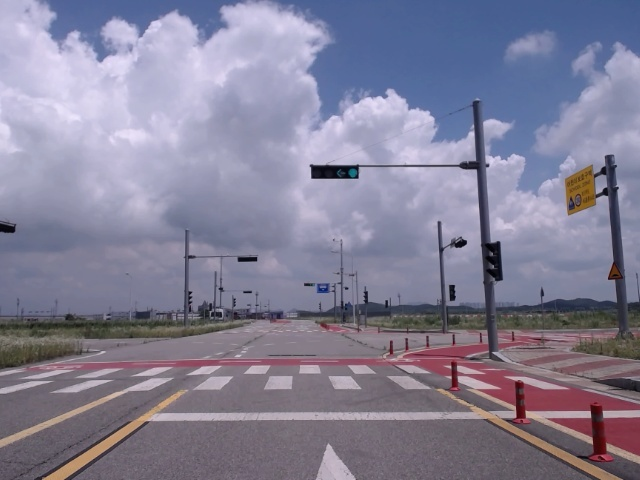all_green_4: (311, 165, 359, 181)
